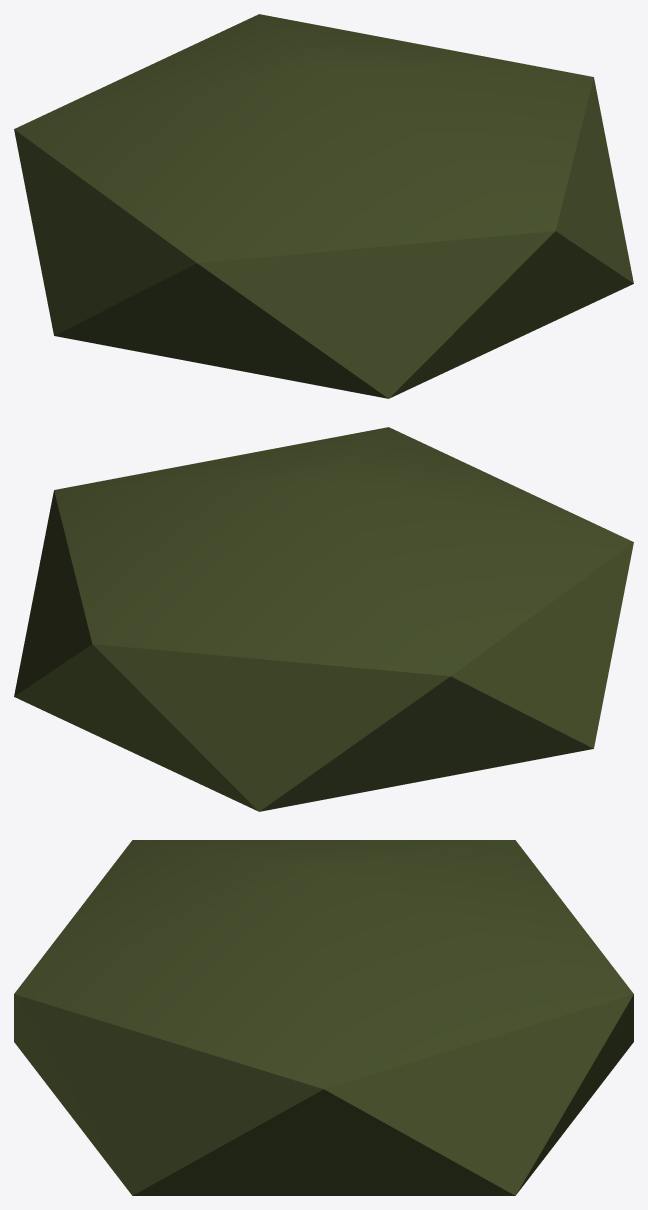
The model's file is bg_swamp_hummock_1_lod2.glb.
3 views of the same model, one above another, from view 1: azimuth 30°, elevation 25°; view 2: azimuth 150°, elevation 25°; view 3: azimuth 270°, elevation 25° (orthographic). The views are drawn at different scales.
Visible parts, largest first — view 1: sway; view 2: sway; view 3: sway.
Part boxes in pixels (x1=…): sway: x1=14, y1=14, x2=633, y2=398; sway: x1=14, y1=427, x2=633, y2=811; sway: x1=14, y1=840, x2=633, y2=1195.
Bounding box in the file's own units: 0.9839 × 0.495 × 0.9357.
